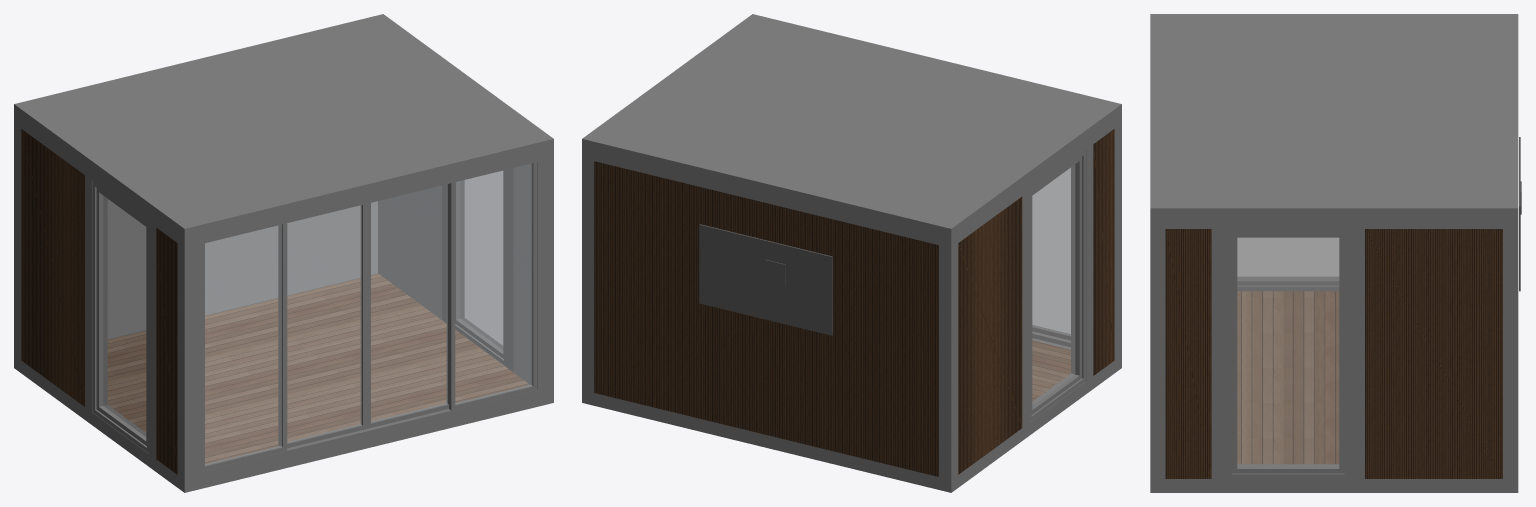
The model's file is Type A.glb.
3 renders of one model, left to right at view 1: azimuth 30°, elevation 25°; view 2: azimuth 150°, elevation 25°; view 3: azimuth 270°, elevation 25°, orthographic. The views are drawn at different scales.
Parts seen in each view (by area): view 1: Geom3D (×21), Geom3D_ (×19); view 2: Geom3D_ (×15), Geom3D (×4); view 3: Geom3D_ (×13), Geom3D (×3).
Boxes of the visible parts, x1=… form: Geom3D (×21): x1=96, y1=153, x2=541, y2=472; Geom3D_ (×19): x1=14, y1=14, x2=553, y2=492; Geom3D_ (×15): x1=582, y1=14, x2=1121, y2=492; Geom3D (×4): x1=699, y1=157, x2=1081, y2=414; Geom3D_ (×13): x1=1150, y1=14, x2=1518, y2=492; Geom3D (×3): x1=1232, y1=233, x2=1344, y2=473.
Bounding box in the file's own units: 4.57 × 3.12 × 3.69.
10 materials, 5 textured.
